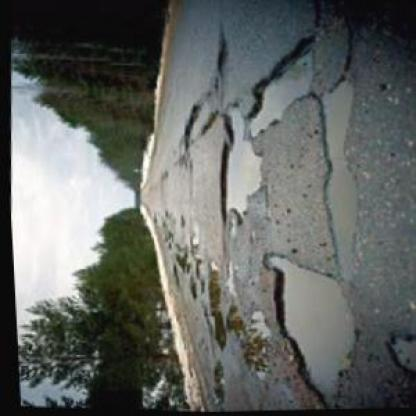pothole: (245, 249, 365, 410), (301, 75, 369, 280), (240, 29, 319, 143), (212, 103, 269, 226), (216, 302, 270, 379), (175, 90, 222, 153), (196, 256, 223, 350), (374, 332, 414, 378), (210, 33, 230, 75), (203, 359, 221, 405)
